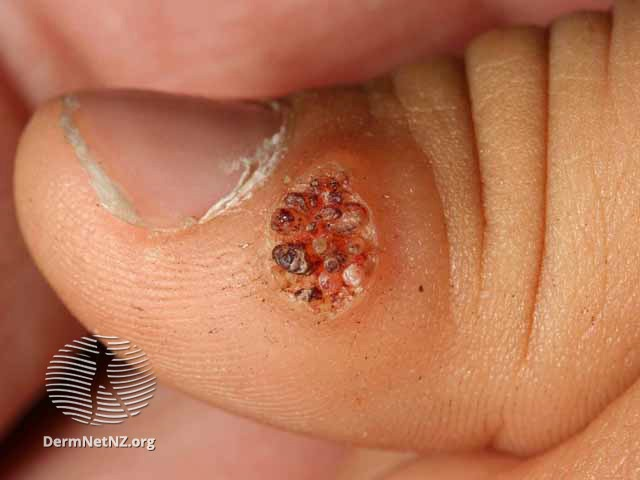Warts: (260, 145, 389, 334)
